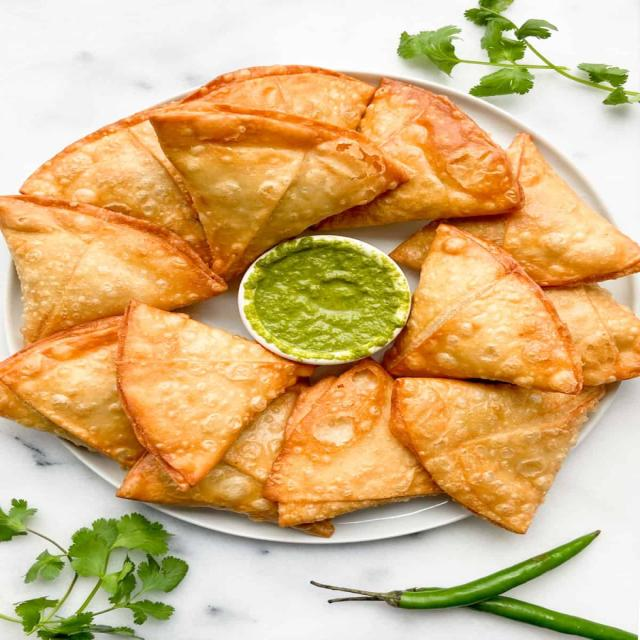SAMOSA: (0, 65, 639, 546)
